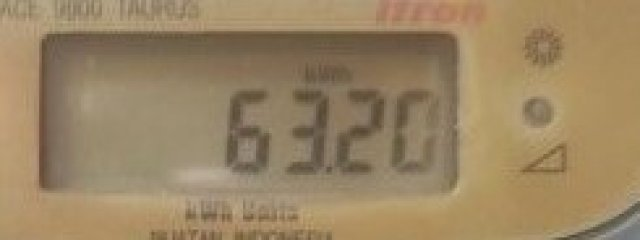box: (41, 34, 457, 195)
